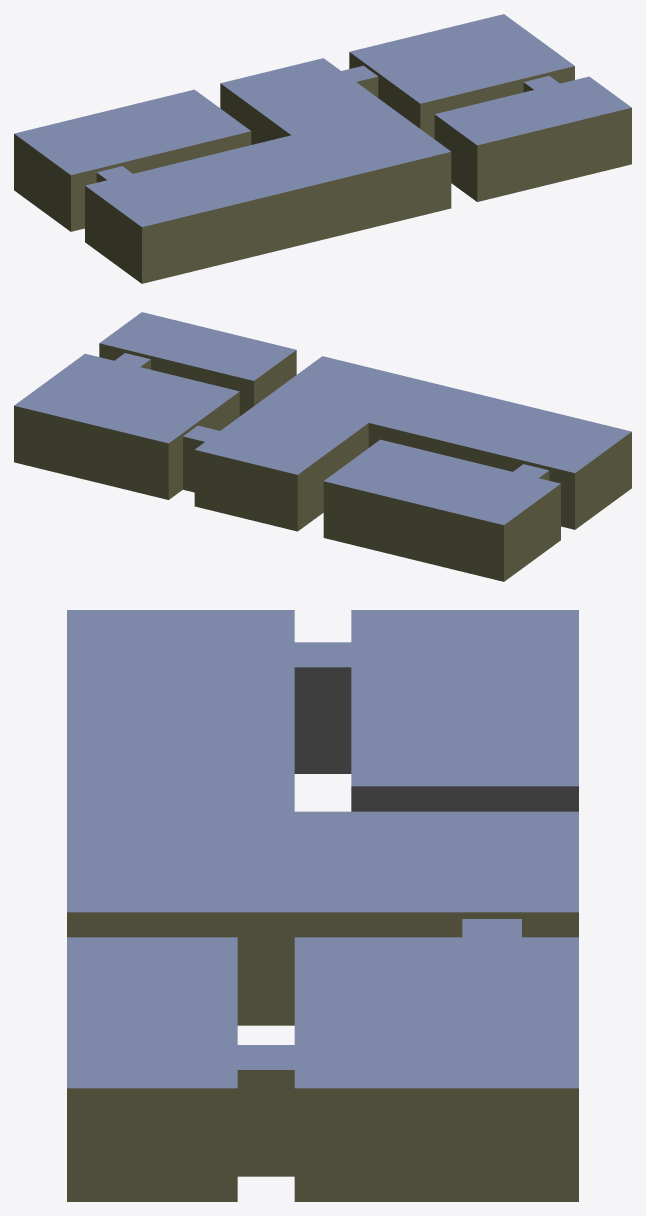
Rendered from Room1_fixed_doors.fbx.
3 renders of one model, top to bottom at view 1: azimuth 30°, elevation 25°; view 2: azimuth 150°, elevation 25°; view 3: azimuth 270°, elevation 25°, orthographic. The views are drawn at different scales.
Parts seen in each view (by area): view 1: Room; view 2: Room; view 3: Room.
Part boxes in pixels (bbox=[...]): Room: bbox=[14, 14, 631, 283]; Room: bbox=[14, 312, 631, 581]; Room: bbox=[67, 610, 578, 1201].
Size of the model in its own units: 3619 by 400 by 1636.
